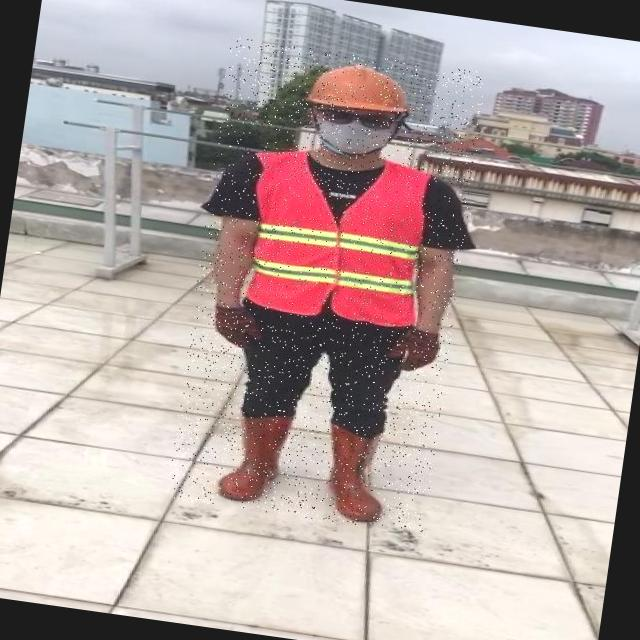boots: (310, 418, 396, 524), (214, 407, 294, 508)
gloves: (364, 306, 478, 394), (180, 278, 289, 358)
helmet: (306, 60, 413, 119)
vest: (235, 146, 436, 328)
